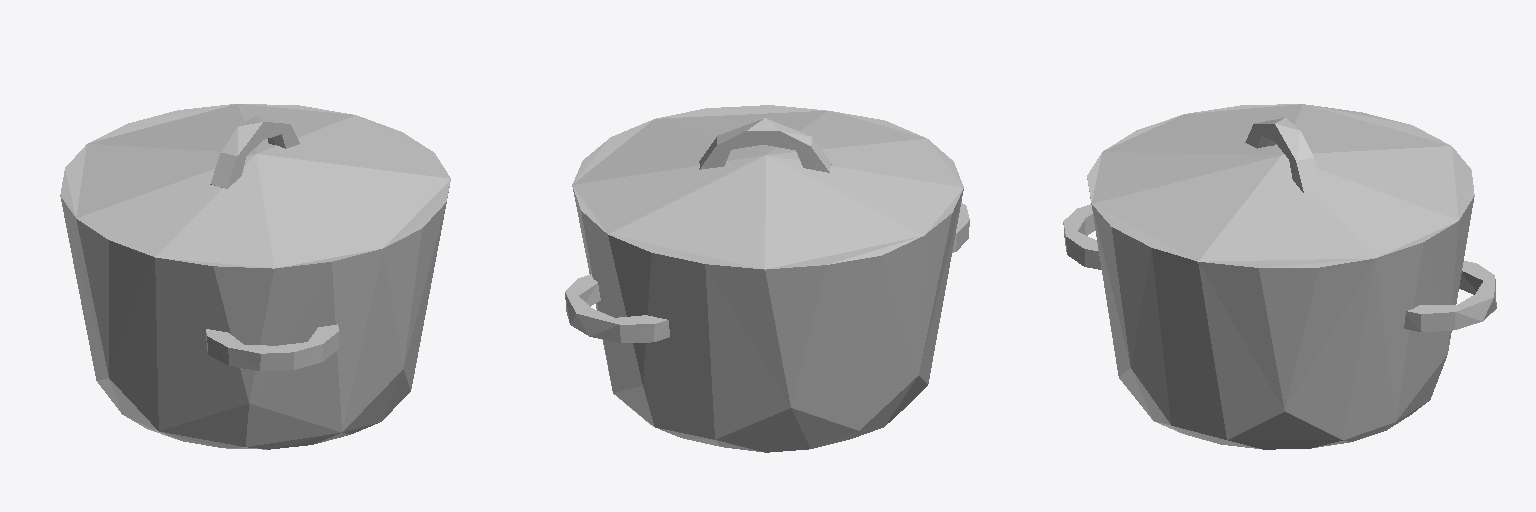
File: Pan03b.obj
The picture shows the model from 3 angles: view 1: azimuth 30°, elevation 25°; view 2: azimuth 150°, elevation 25°; view 3: azimuth 270°, elevation 25°; orthographic projection.
Parts seen in each view (by area): view 1: Pan03b_LOD0_defaultMaterial.003; view 2: Pan03b_LOD0_defaultMaterial.003; view 3: Pan03b_LOD0_defaultMaterial.003.
Boxes of the visible parts, x1=… form: Pan03b_LOD0_defaultMaterial.003: x1=60, y1=104, x2=450, y2=449; Pan03b_LOD0_defaultMaterial.003: x1=565, y1=105, x2=969, y2=452; Pan03b_LOD0_defaultMaterial.003: x1=1063, y1=104, x2=1496, y2=449.
Size of the model in its own units: 0.3823 by 0.2934 by 0.4271.